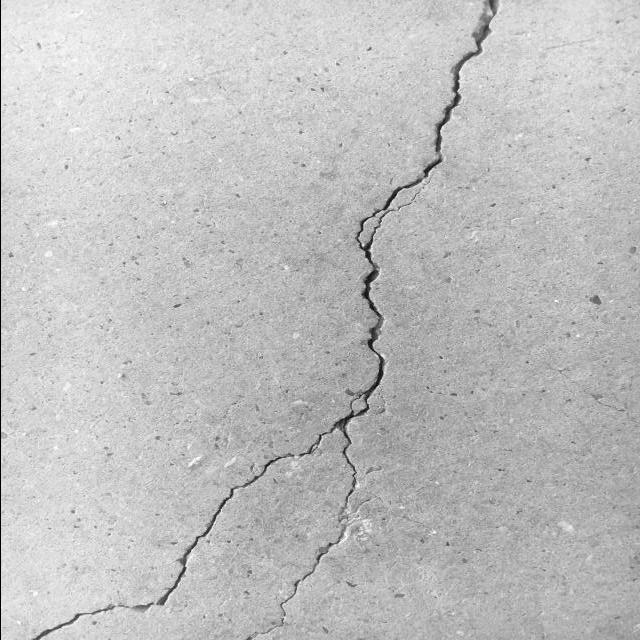SurfaceCrack: (272, 0, 514, 640), (0, 396, 352, 640)
